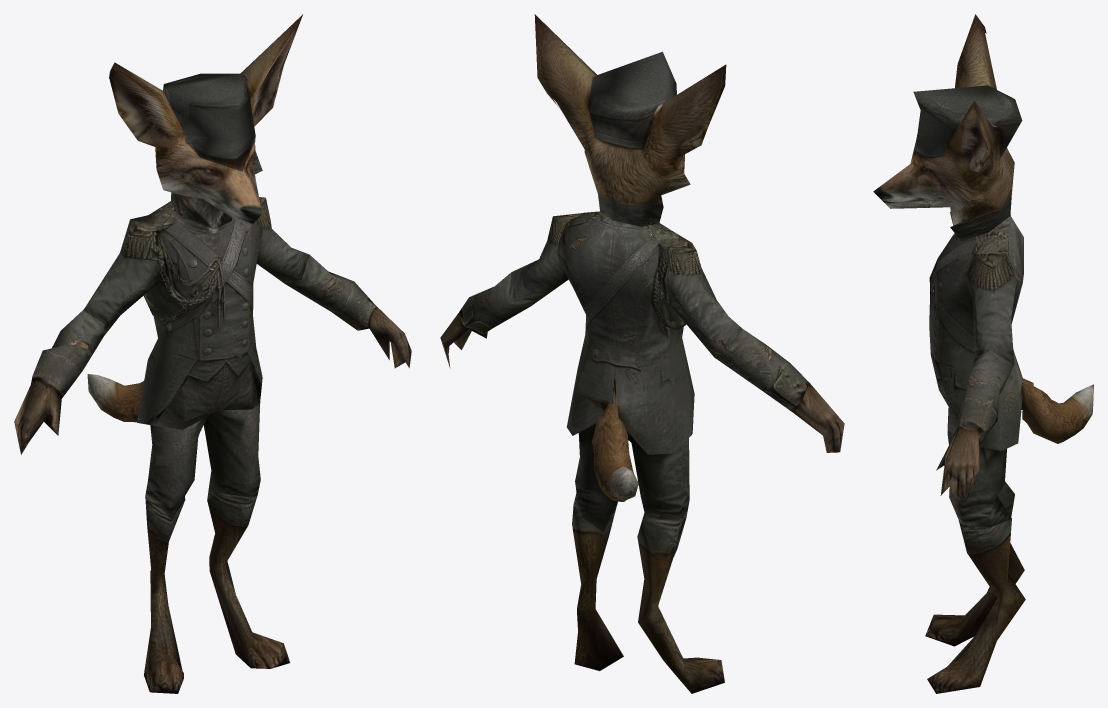
The model's file is infantry_spd_gibs.glb.
3 renders of one model, left to right at view 1: azimuth 30°, elevation 25°; view 2: azimuth 150°, elevation 25°; view 3: azimuth 270°, elevation 25°, orthographic. The views are drawn at different scales.
Visible parts, largest first — view 1: Body.001, Head.001, Hat.001, Leg.L.001, Forarm.R.001, Leg.R.001, Arm.R.001, Upleg.L.001, Forarm.L.001, Upleg.R.001, Arm.L.001; view 2: Body.001, Head.001, Hat.001, Leg.R.001, Forarm.R.001, Arm.R.001, Leg.L.001, Upleg.R.001, Forarm.L.001, Arm.L.001, Upleg.L.001; view 3: Body.001, Head.001, Leg.L.001, Forarm.L.001, Hat.001, Arm.L.001, Upleg.L.001, Leg.R.001.
Boxes of the visible parts, left/top/right/bottom form: Body.001: left=87, top=201, right=262, bottom=429; Head.001: left=109, top=14, right=302, bottom=229; Hat.001: left=163, top=73, right=255, bottom=171; Leg.L.001: left=207, top=493, right=289, bottom=668; Forarm.R.001: left=14, top=310, right=104, bottom=454; Leg.R.001: left=144, top=496, right=184, bottom=693; Arm.R.001: left=83, top=219, right=167, bottom=335; Upleg.L.001: left=203, top=402, right=260, bottom=499; Forarm.L.001: left=285, top=255, right=411, bottom=368; Upleg.R.001: left=145, top=416, right=207, bottom=518; Arm.L.001: left=256, top=197, right=309, bottom=283; Body.001: left=555, top=211, right=694, bottom=501; Head.001: left=534, top=14, right=726, bottom=226; Hat.001: left=588, top=51, right=676, bottom=151; Leg.R.001: left=637, top=512, right=724, bottom=693; Forarm.R.001: left=714, top=329, right=844, bottom=452; Arm.R.001: left=657, top=235, right=742, bottom=356; Leg.L.001: left=572, top=504, right=623, bottom=670; Upleg.R.001: left=626, top=431, right=689, bottom=518; Forarm.L.001: left=440, top=272, right=530, bottom=368; Arm.L.001: left=508, top=213, right=583, bottom=306; Upleg.L.001: left=573, top=424, right=617, bottom=532; Body.001: left=929, top=215, right=1093, bottom=450; Head.001: left=873, top=14, right=1014, bottom=240; Leg.L.001: left=927, top=518, right=1025, bottom=693; Forarm.L.001: left=936, top=350, right=1013, bottom=503; Hat.001: left=910, top=85, right=1022, bottom=163; Arm.L.001: left=965, top=254, right=1016, bottom=364; Upleg.L.001: left=947, top=429, right=1011, bottom=527; Leg.R.001: left=925, top=481, right=1024, bottom=646.
Size of the model in its own units: 0.6376 by 0.9865 by 0.3243.
2 materials, 1 textured.
